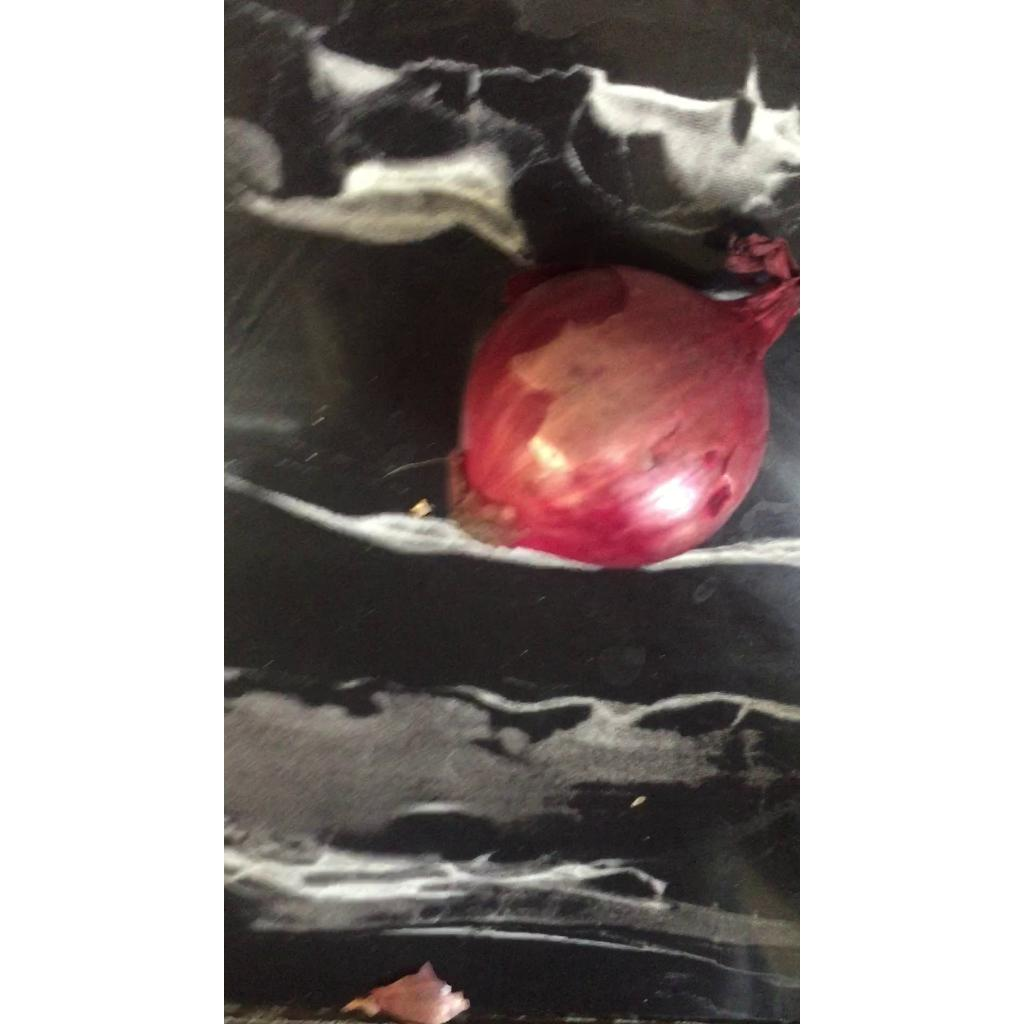Onion: (448, 234, 799, 568)
